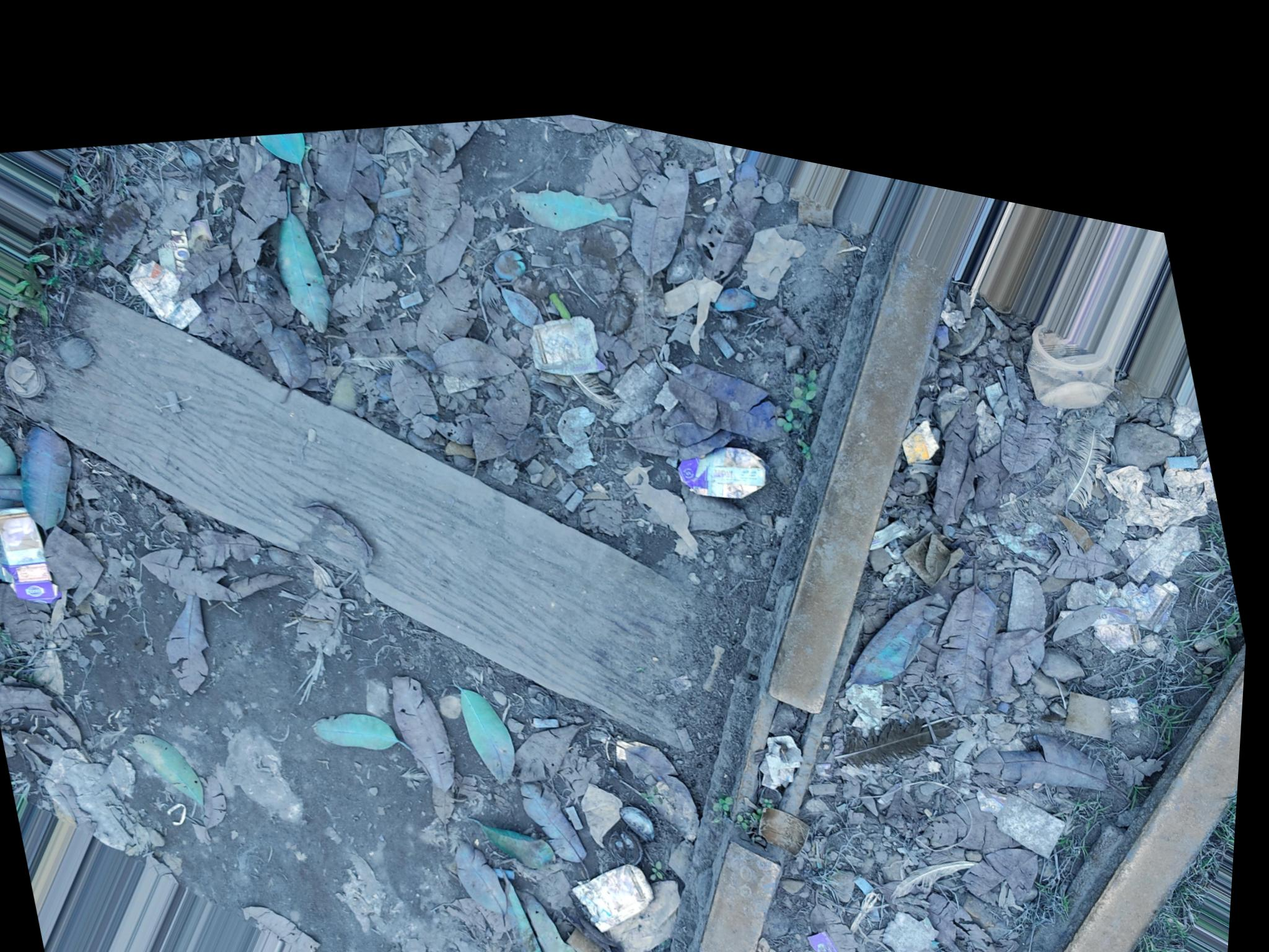person: (643, 544, 922, 931), (993, 901, 1123, 952)
